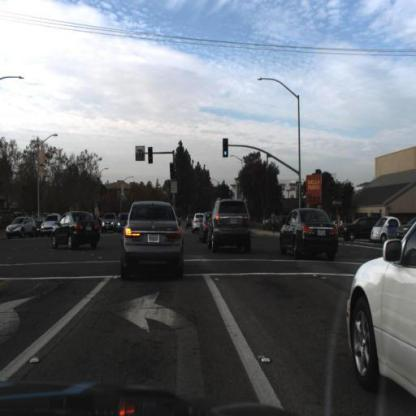car: (345, 207, 415, 408), (122, 202, 183, 284), (278, 209, 342, 264), (208, 194, 254, 257), (54, 214, 100, 250), (200, 208, 215, 248), (188, 213, 209, 236), (7, 219, 35, 235), (41, 212, 60, 232), (184, 208, 196, 235), (103, 211, 119, 231), (118, 214, 130, 232)
pedestrian: (271, 212, 278, 238)
trafficLight-Green: (222, 140, 229, 159), (147, 148, 154, 166), (172, 164, 178, 182), (300, 185, 305, 200)
